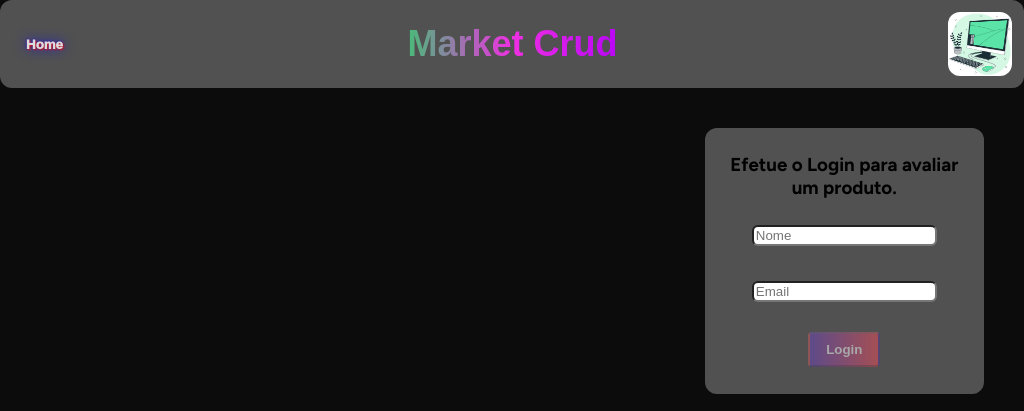
Test: Formulário de login. › Verifica se botão permanece desabilitado se os campos não forem validados.
This screenshot has width=1024, height=411.
Expected: the button with test id "login-btn" is disabled, [808,332,880,367]
Type "teste" into the field with test id "input-name" at (844, 235), box [752,225,937,246]
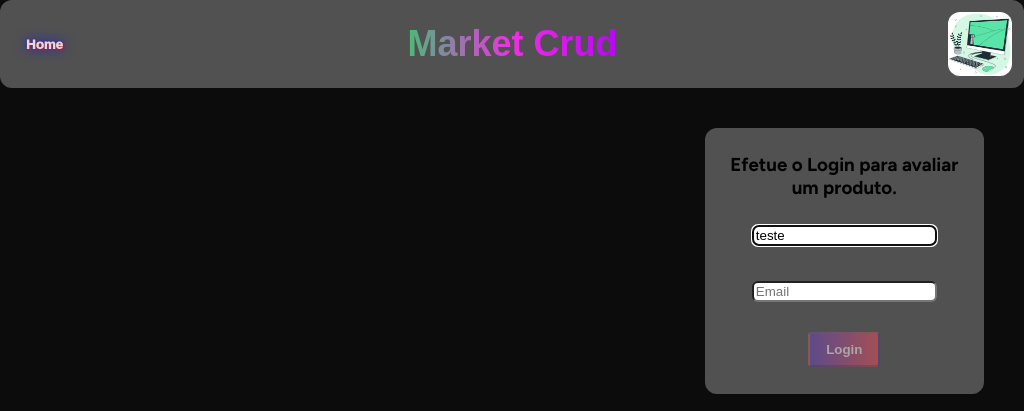
Type "exemplo@email.com" into the field with test id "input-email" at (844, 292), box [752,281,937,302]
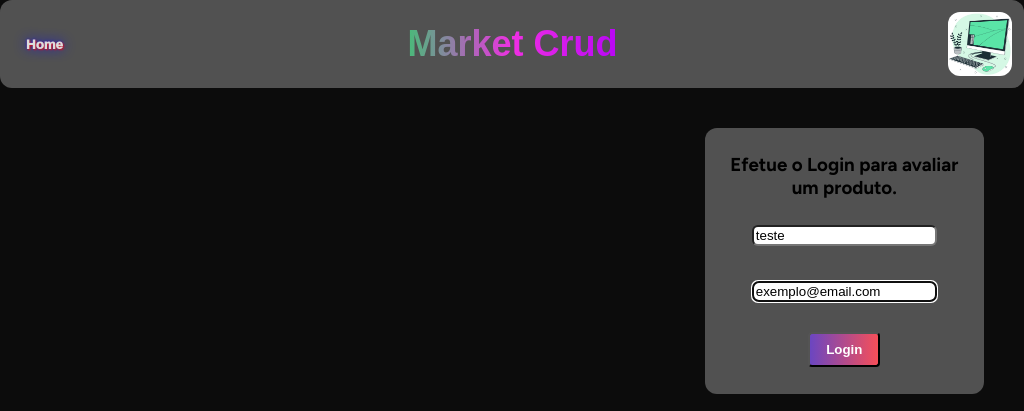
Result: the button with test id "login-btn" is enabled at [808,332,880,367]
